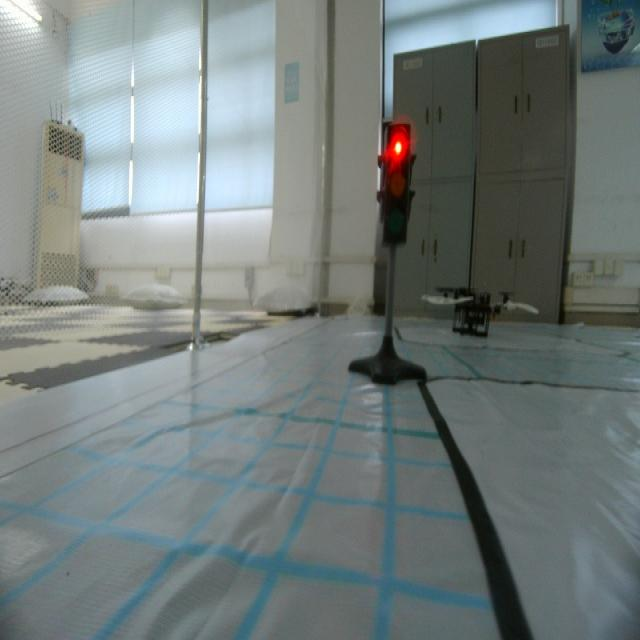red: (377, 111, 413, 260)
